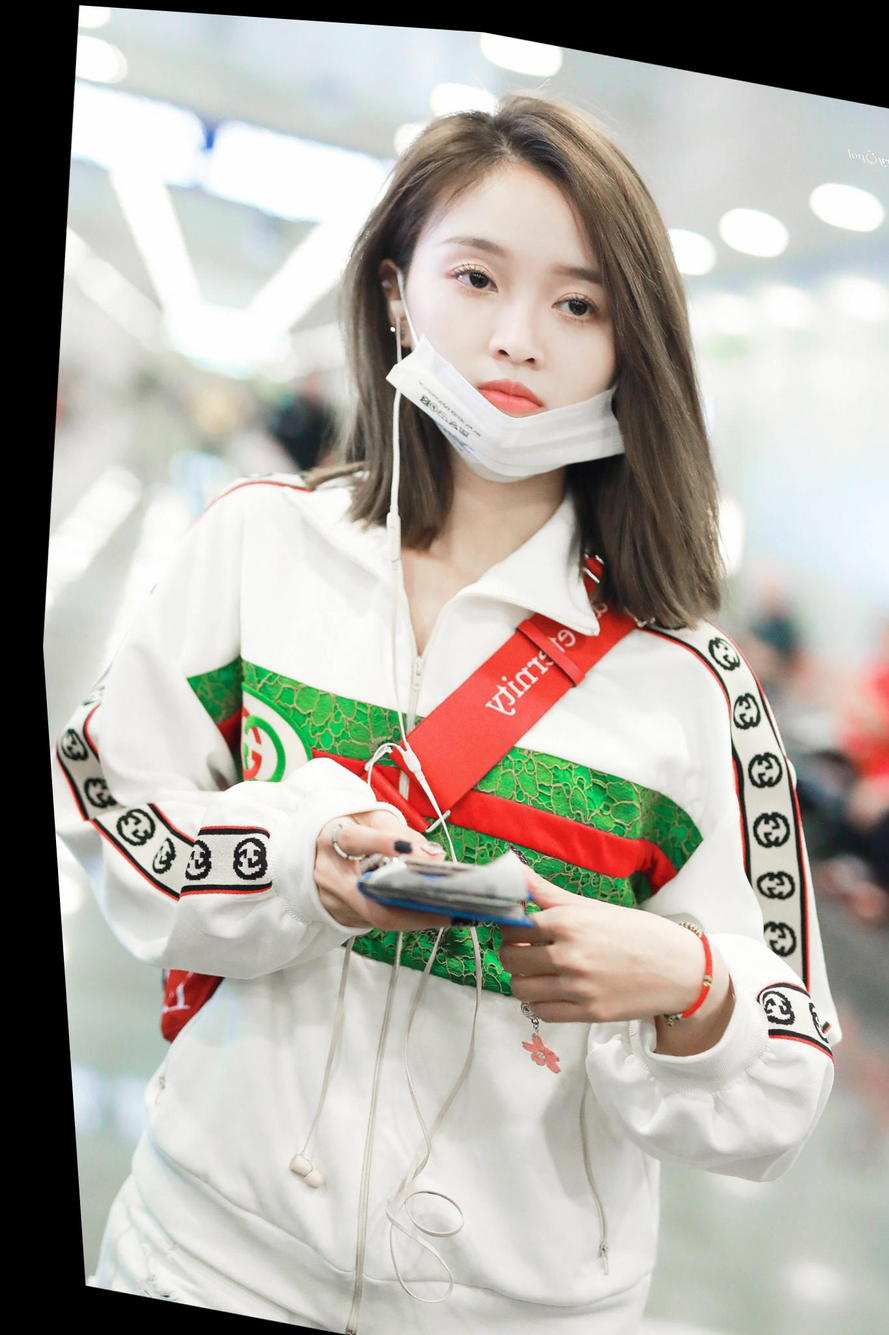WRONG: (381, 171, 647, 484)
